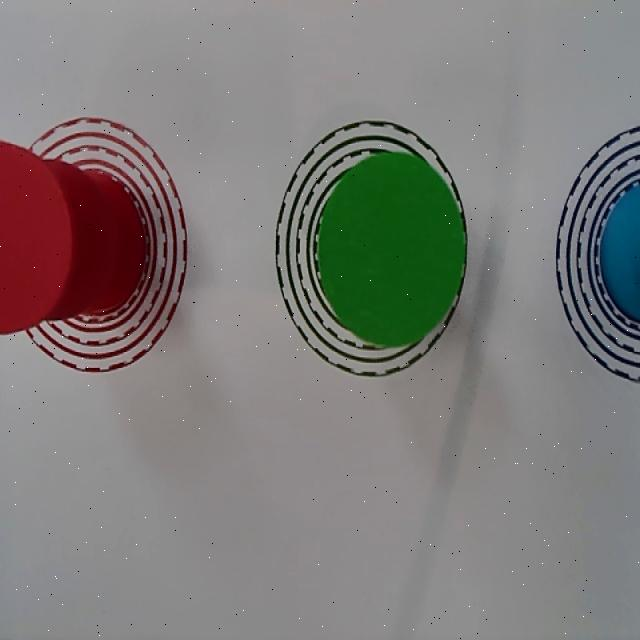g: (318, 152, 464, 346)
